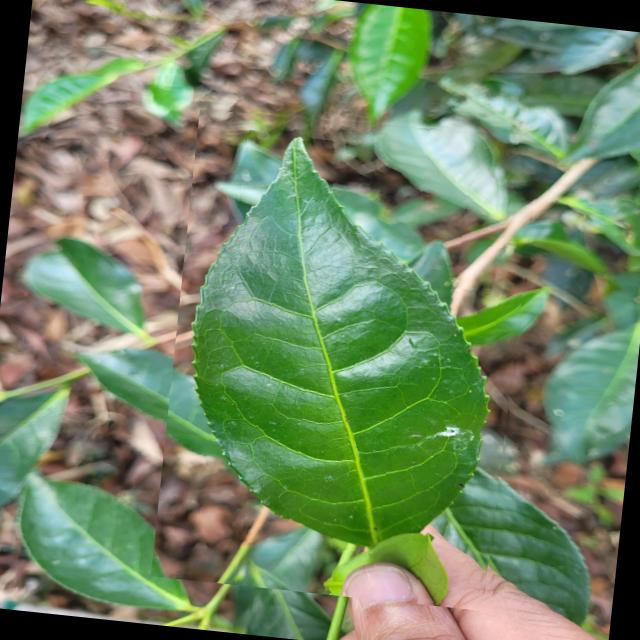Category D 7+ days, Not for Tea: (150, 101, 542, 612)
